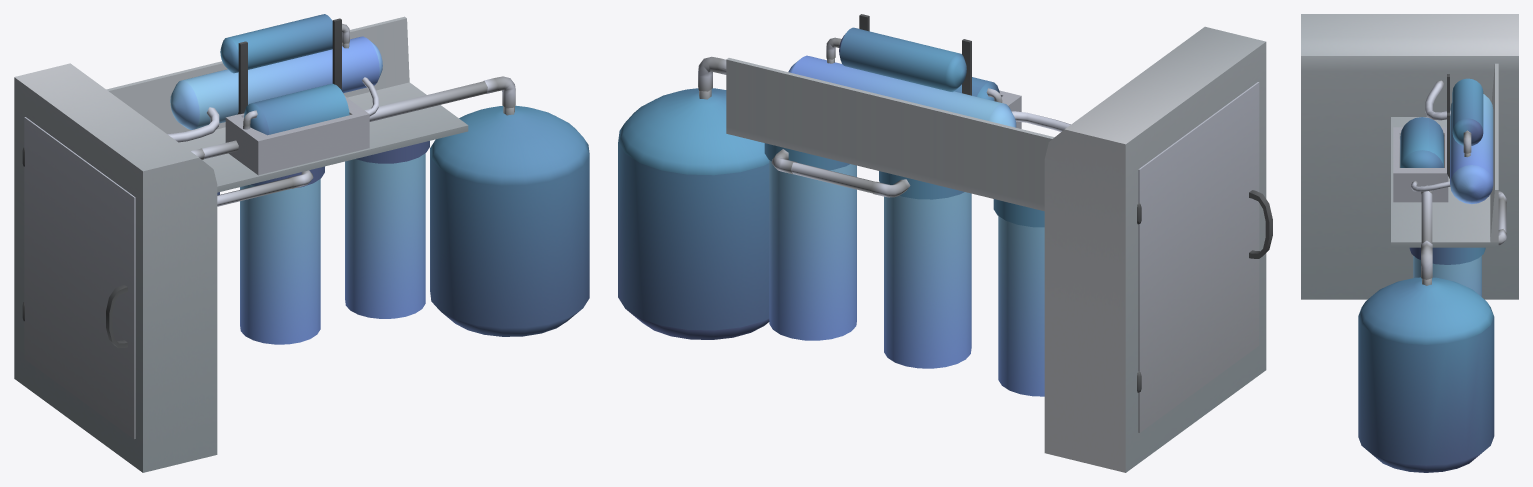
The model's file is Water Filtration.fbx.
3 views of the same model, side by side, from view 1: azimuth 30°, elevation 25°; view 2: azimuth 150°, elevation 25°; view 3: azimuth 270°, elevation 25° (orthographic). The views are drawn at different scales.
Visible parts, largest first — view 1: waterfiltration__1_:pCube18, waterfiltration__1_:pCylinder42; view 2: waterfiltration__1_:pCube18, waterfiltration__1_:pCylinder42; view 3: waterfiltration__1_:pCube18.
Boxes of the visible parts, bbox=[...] form: waterfiltration__1_:pCube18: bbox=[14, 14, 589, 472]; waterfiltration__1_:pCylinder42: bbox=[22, 117, 135, 439]; waterfiltration__1_:pCube18: bbox=[618, 14, 1266, 472]; waterfiltration__1_:pCylinder42: bbox=[1137, 82, 1272, 432]; waterfiltration__1_:pCube18: bbox=[1301, 14, 1518, 472].
Bounding box in the file's own units: 117 × 67.73 × 49.35.
